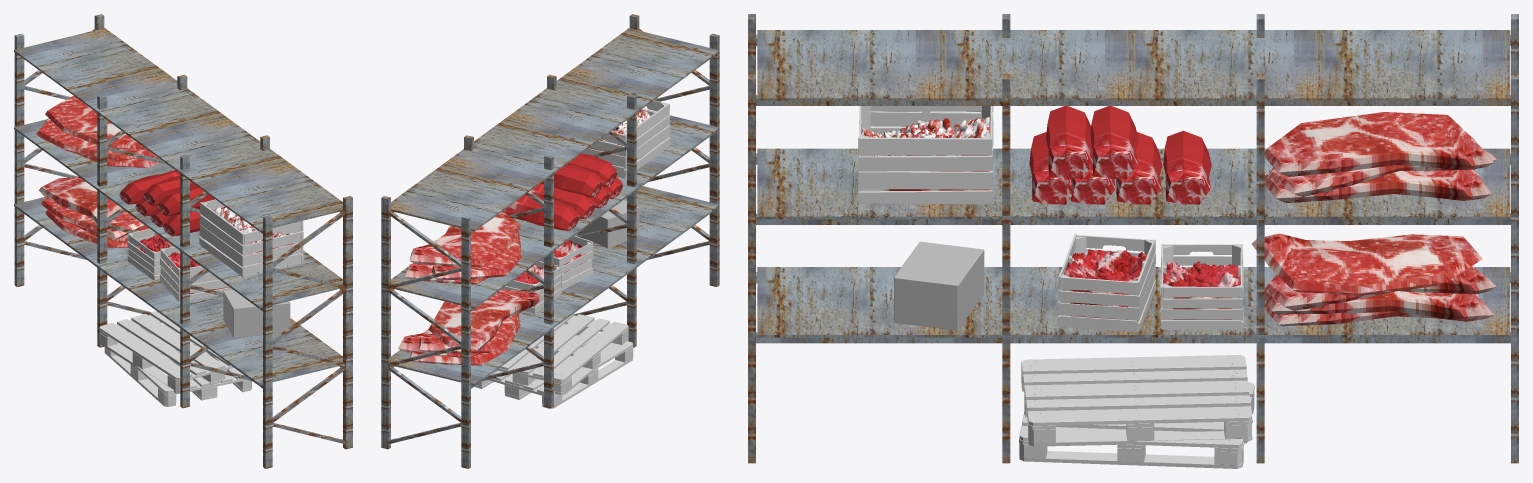
The model's file is shelf freezer 2.fbx.
3 renders of one model, left to right at view 1: azimuth 30°, elevation 25°; view 2: azimuth 150°, elevation 25°; view 3: azimuth 270°, elevation 25°, orthographic. The views are drawn at different scales.
Parts seen in each view (by area): view 1: Shelf Freezer2.010, EURO Pallet-used.003, Box of strawberries.002, Plane.007, EURO Pallet-used.002, Plane.003, Box Packaging.014, Box of strawberries.001, Plane.002, Box of strawberries, Circle.008, Plane.006 (+7 smaller); view 2: Shelf Freezer2.010, EURO Pallet-used.003, Plane.007, Plane.003, Box of strawberries.002, EURO Pallet-used.002, Plane.002, Circle.008, Box Packaging.014, Box of strawberries.001, Circle.009, Plane.006 (+7 smaller); view 3: Shelf Freezer2.010, EURO Pallet-used.003, Box of strawberries.002, Plane.003, Plane.007, Box Packaging.014, Box of strawberries.001, EURO Pallet-used.002, Box of strawberries, Plane.001, Plane.005, Circle.008 (+11 smaller).
Part boxes in pixels (bbox=[...]): Shelf Freezer2.010: bbox=[14, 14, 352, 468]; EURO Pallet-used.003: bbox=[99, 311, 233, 393]; Box of strawberries.002: bbox=[199, 199, 303, 277]; Plane.007: bbox=[38, 178, 144, 240]; EURO Pallet-used.002: bbox=[104, 324, 251, 406]; Plane.003: bbox=[45, 95, 146, 149]; Box Packaging.014: bbox=[223, 290, 290, 337]; Box of strawberries.001: bbox=[160, 246, 232, 301]; Plane.002: bbox=[36, 118, 156, 160]; Box of strawberries: bbox=[127, 228, 160, 280]; Circle.008: bbox=[119, 169, 180, 204]; Plane.006: bbox=[40, 176, 149, 231]; Shelf Freezer2.010: bbox=[381, 14, 719, 468]; EURO Pallet-used.003: bbox=[490, 313, 628, 394]; Plane.007: bbox=[428, 289, 541, 350]; Plane.003: bbox=[409, 211, 520, 266]; Box of strawberries.002: bbox=[581, 100, 670, 178]; EURO Pallet-used.002: bbox=[474, 324, 633, 408]; Plane.002: bbox=[432, 231, 522, 280]; Circle.008: bbox=[502, 194, 579, 230]; Box Packaging.014: bbox=[576, 200, 639, 248]; Box of strawberries.001: bbox=[540, 236, 593, 290]; Circle.009: bbox=[541, 164, 603, 197]; Plane.006: bbox=[419, 312, 519, 353]; Shelf Freezer2.010: bbox=[748, 14, 1518, 463]; EURO Pallet-used.003: bbox=[1021, 355, 1252, 446]; Box of strawberries.002: bbox=[858, 106, 993, 204]; Plane.003: bbox=[1264, 112, 1493, 176]; Plane.007: bbox=[1251, 233, 1482, 295]; Box Packaging.014: bbox=[894, 241, 984, 330]; Box of strawberries.001: bbox=[1058, 234, 1155, 332]; EURO Pallet-used.002: bbox=[1019, 382, 1254, 468]; Box of strawberries: bbox=[1160, 243, 1243, 329]; Plane.001: bbox=[1264, 169, 1491, 202]; Plane.005: bbox=[1264, 291, 1487, 320]; Circle.008: bbox=[1163, 130, 1211, 204].
Bounding box in the file's own units: 111 × 280 × 500.
